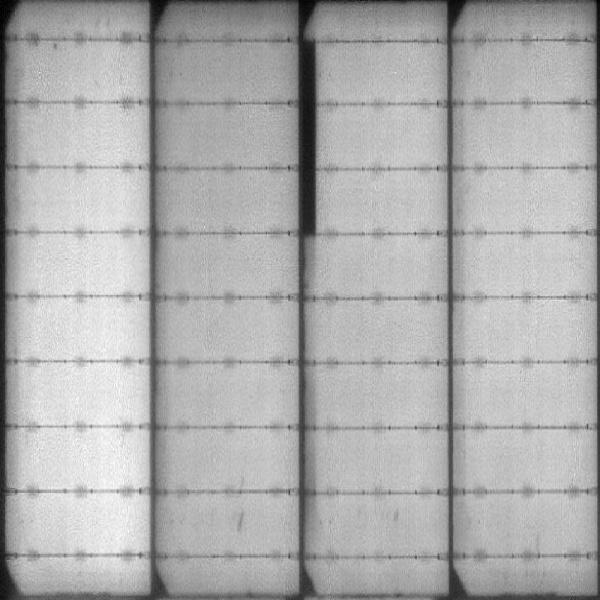black_border: (293, 40, 320, 239)
